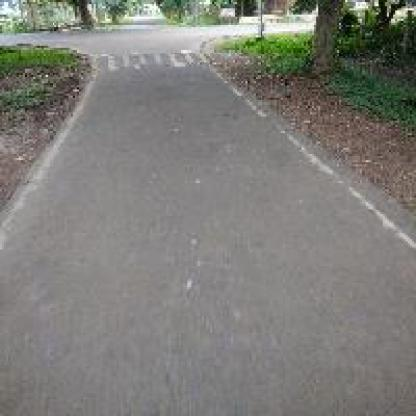Speed Bump: (92, 46, 210, 75)
